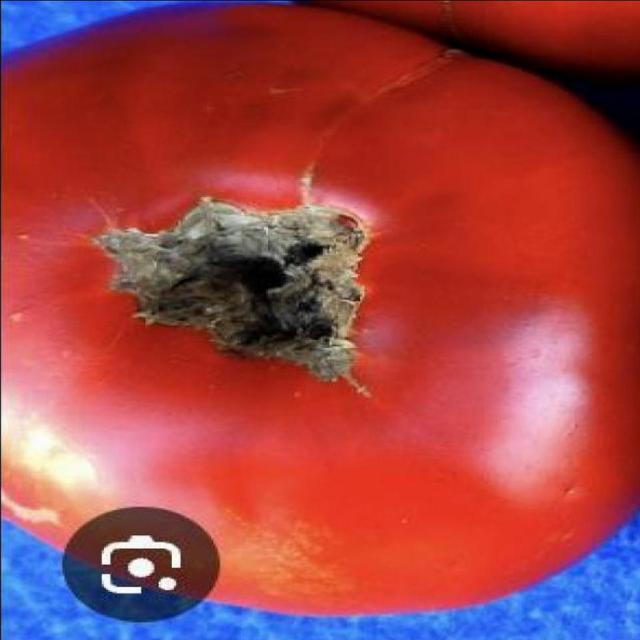Blossom End Rot Fruit: (59, 125, 246, 256)
